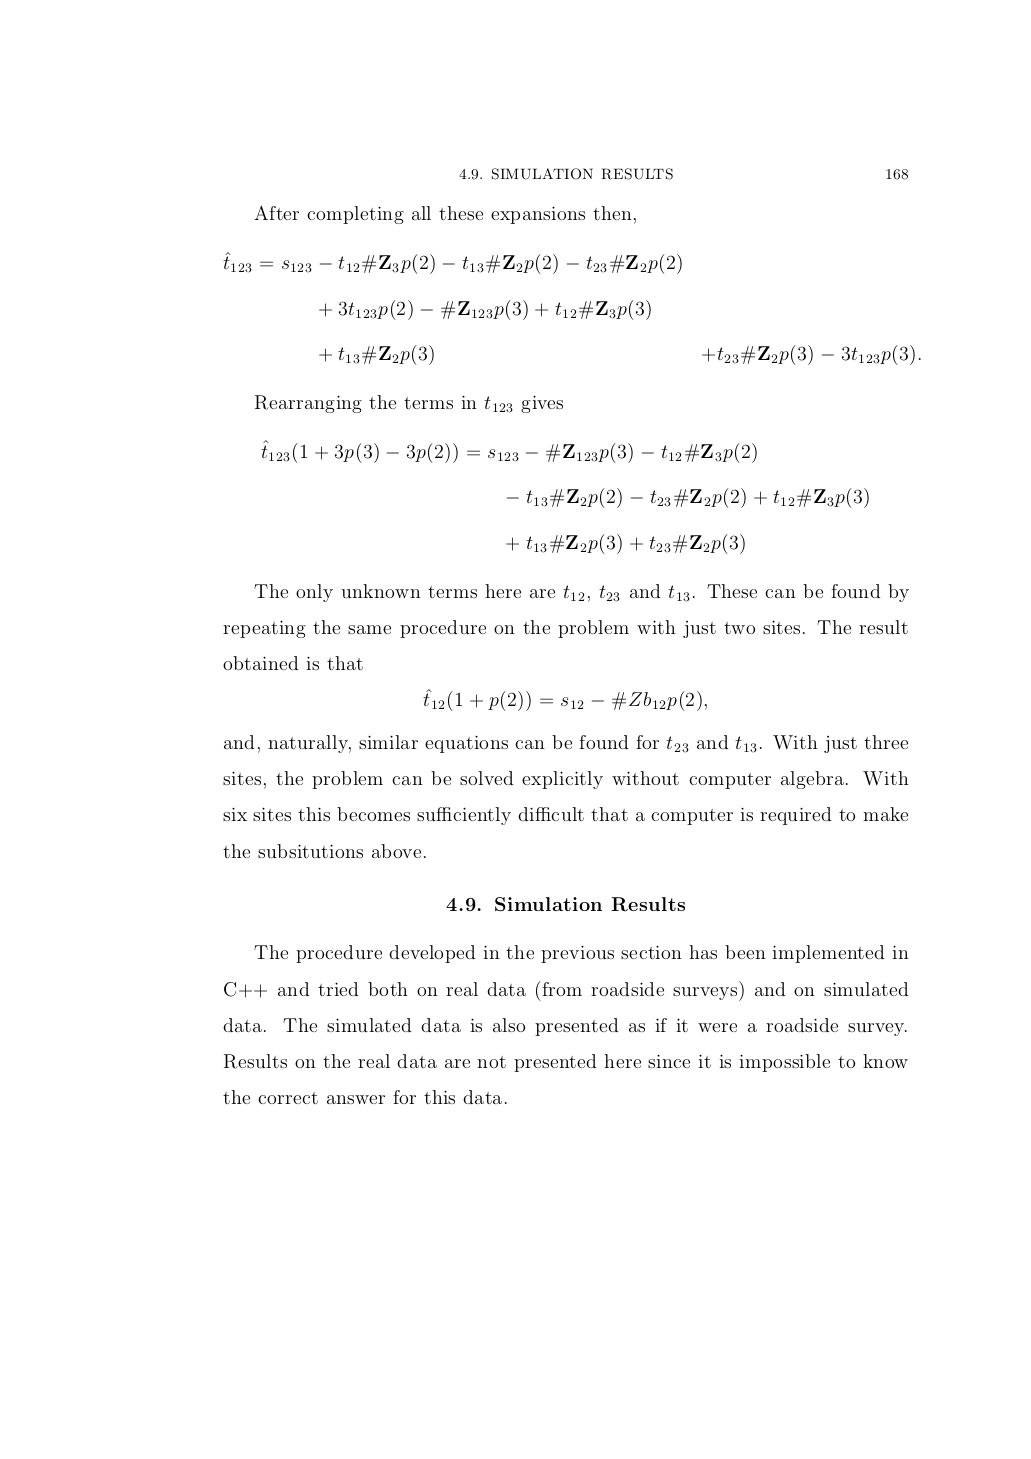formula: (319, 344, 921, 365), (261, 439, 757, 463), (223, 251, 681, 274), (505, 487, 868, 508), (319, 299, 651, 320), (423, 688, 706, 711), (505, 532, 744, 554)
